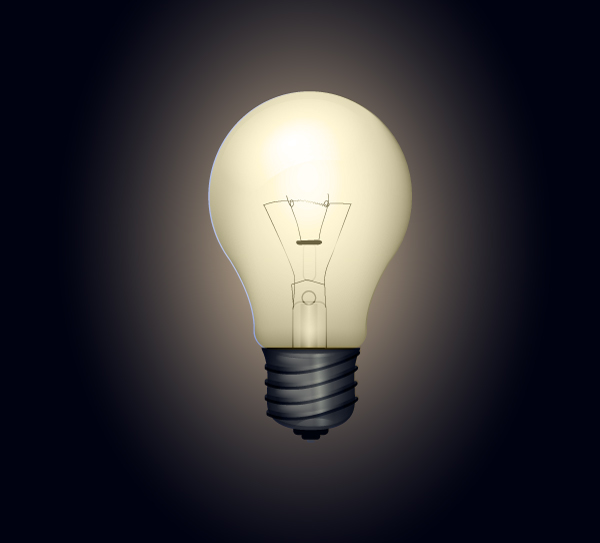Nonrec_Glass: (185, 74, 441, 462)
